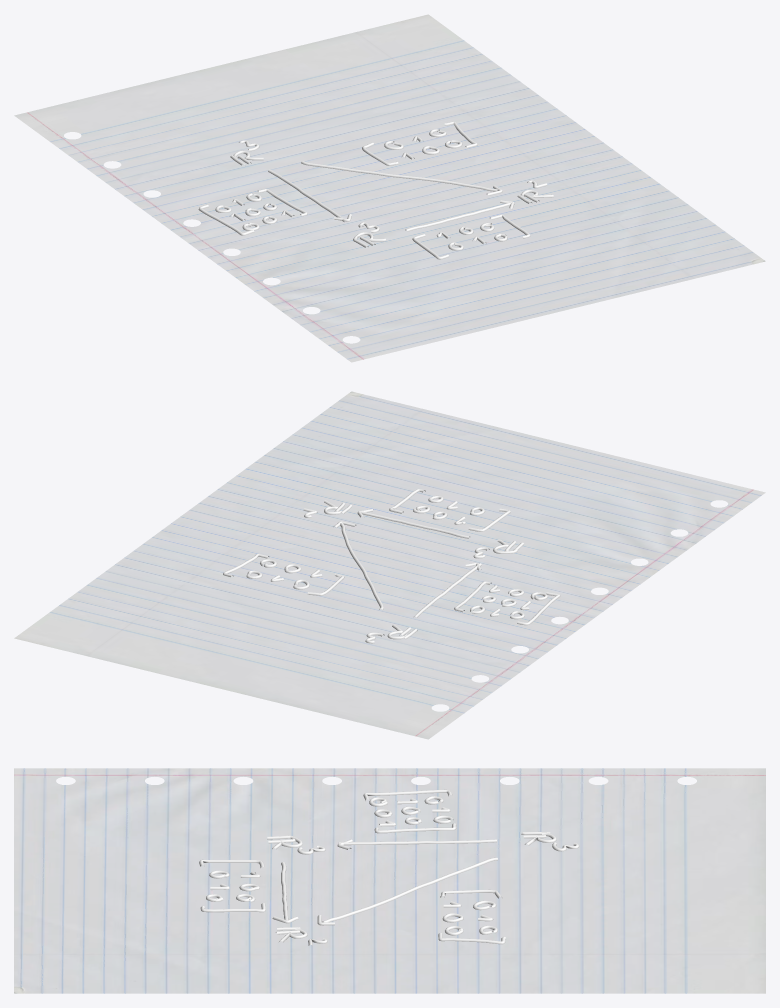
The model's file is notebook.glb.
The picture shows the model from 3 angles, top to bottom: view 1: azimuth 30°, elevation 25°; view 2: azimuth 150°, elevation 25°; view 3: azimuth 270°, elevation 25°; orthographic projection. The views are drawn at different scales.
Visible parts, largest first — view 1: Paper, Drawing; view 2: Paper, Drawing; view 3: Paper, Drawing.
Boxes of the visible parts, x1,y1,x2,y2 form: Paper: [14, 14, 765, 362]; Drawing: [198, 121, 553, 259]; Paper: [14, 391, 765, 739]; Drawing: [223, 489, 560, 643]; Paper: [14, 768, 765, 993]; Drawing: [199, 789, 579, 945].
Bounding box in the file's own units: 2 × 0.016 × 2.82.
2 materials, 1 textured.
